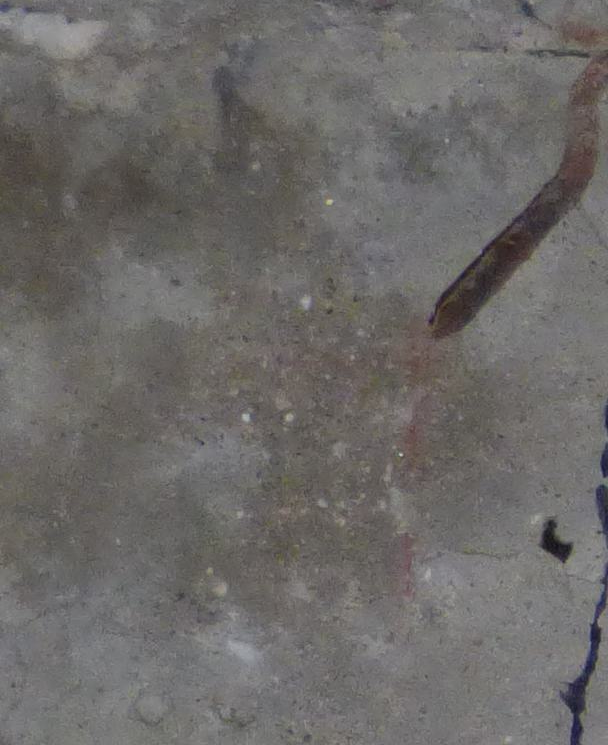Crack: (560, 563, 608, 745)
Exposed reinforcement: (429, 52, 608, 343)
Spalling: (594, 401, 608, 553), (539, 519, 574, 562)
